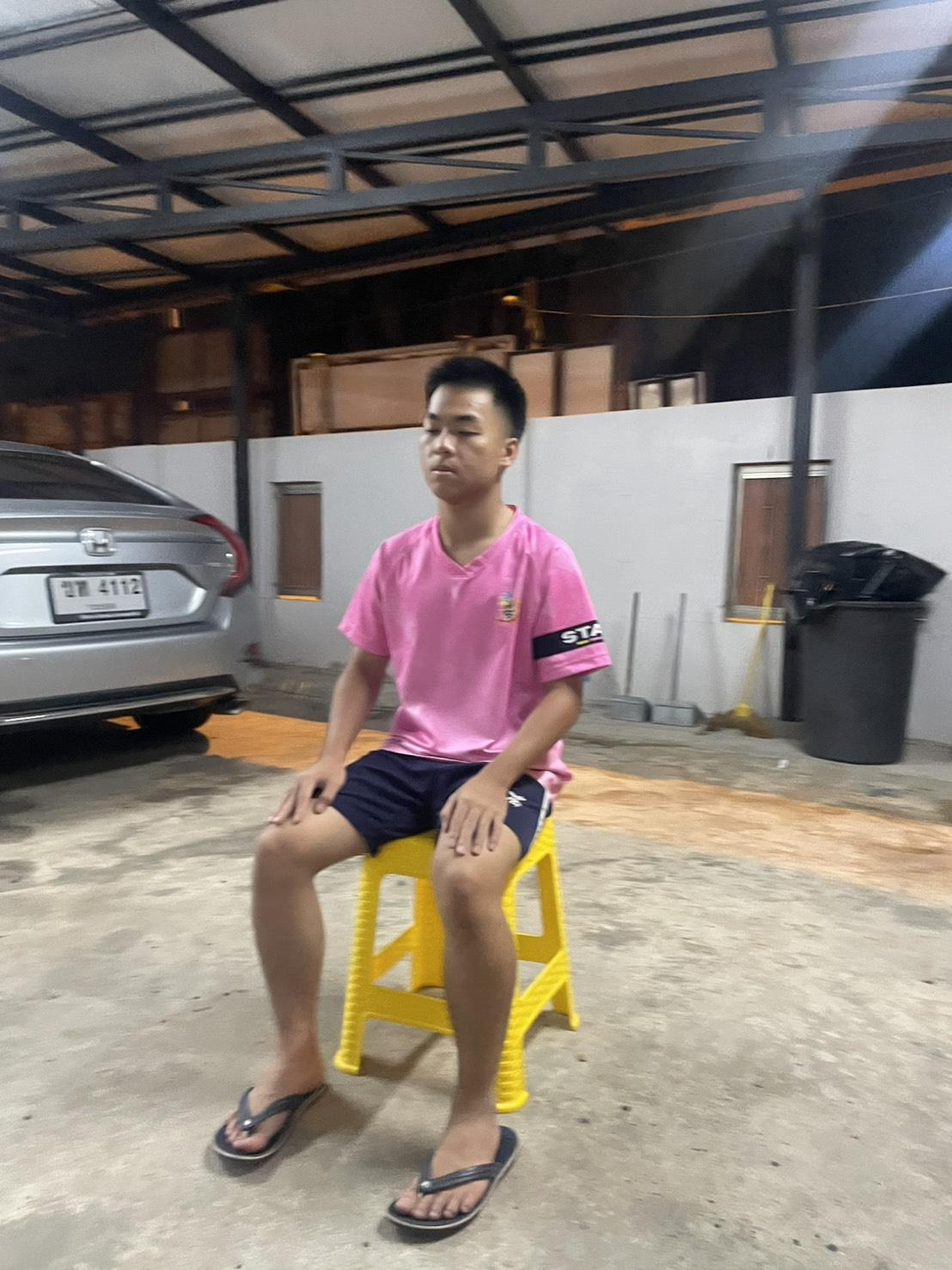GoodPosture: (213, 355, 610, 1235)
